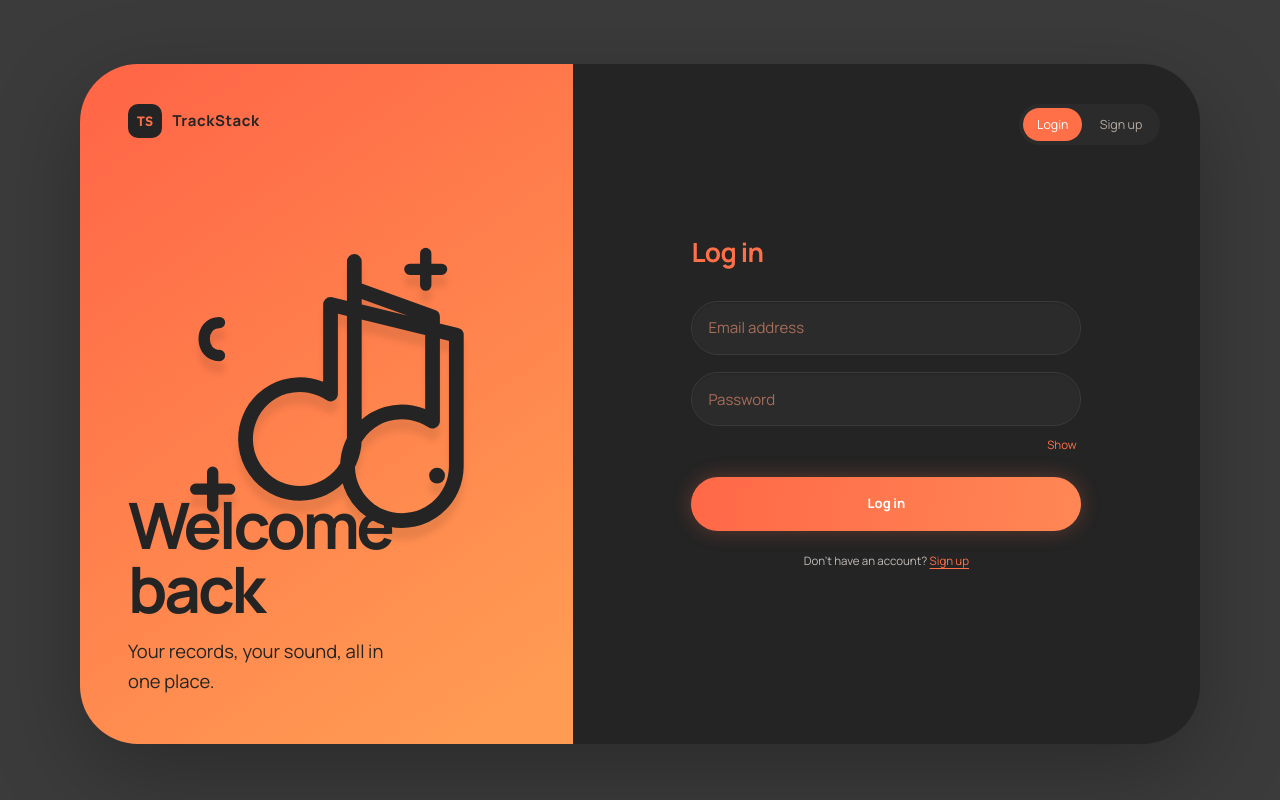
Test: requires a login for the public catalogue and returns to the requested page afterward
Expected: the heading "Log in" is shown, [691,234,763,270]
Type "listener@example.com" into the field labelled "Email" at (886, 328), box [691,301,1081,355]
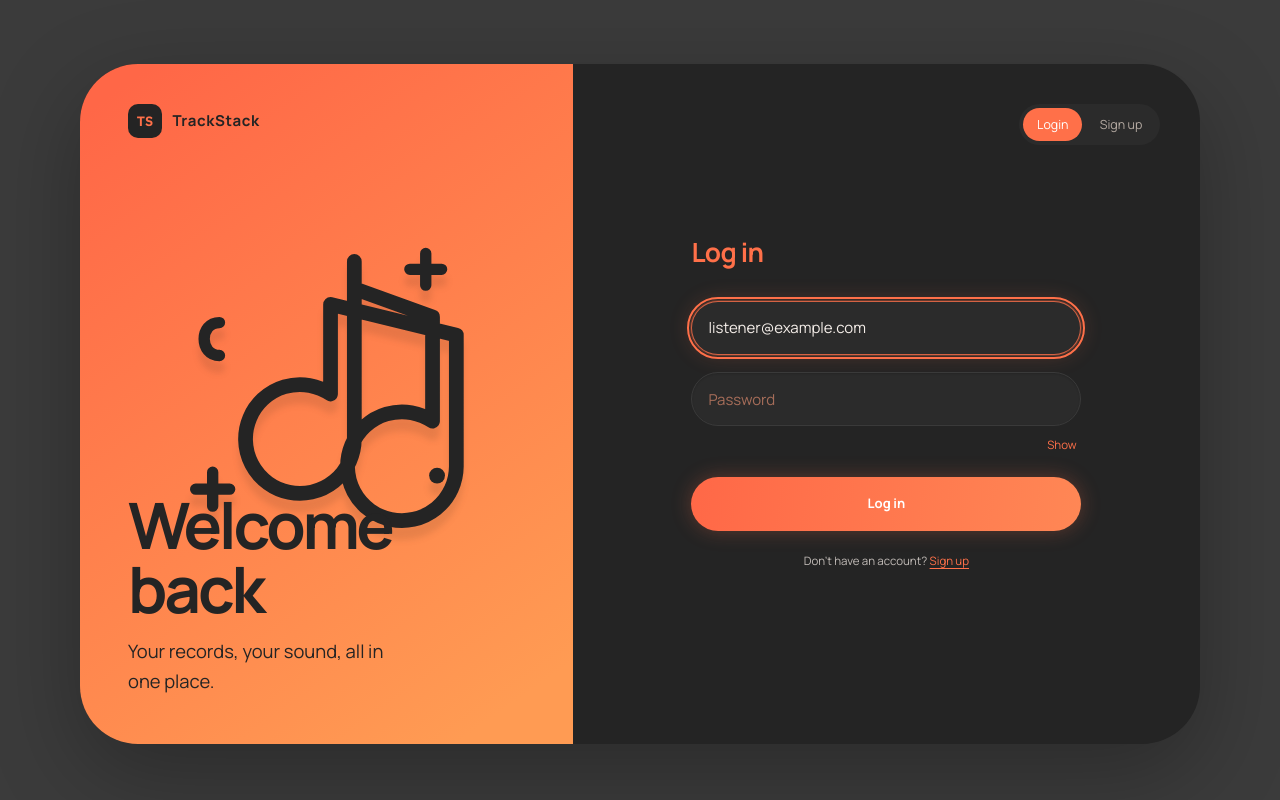
Type "secure-password" into the password field labelled "Password" at (886, 399), box [691,372,1081,426]
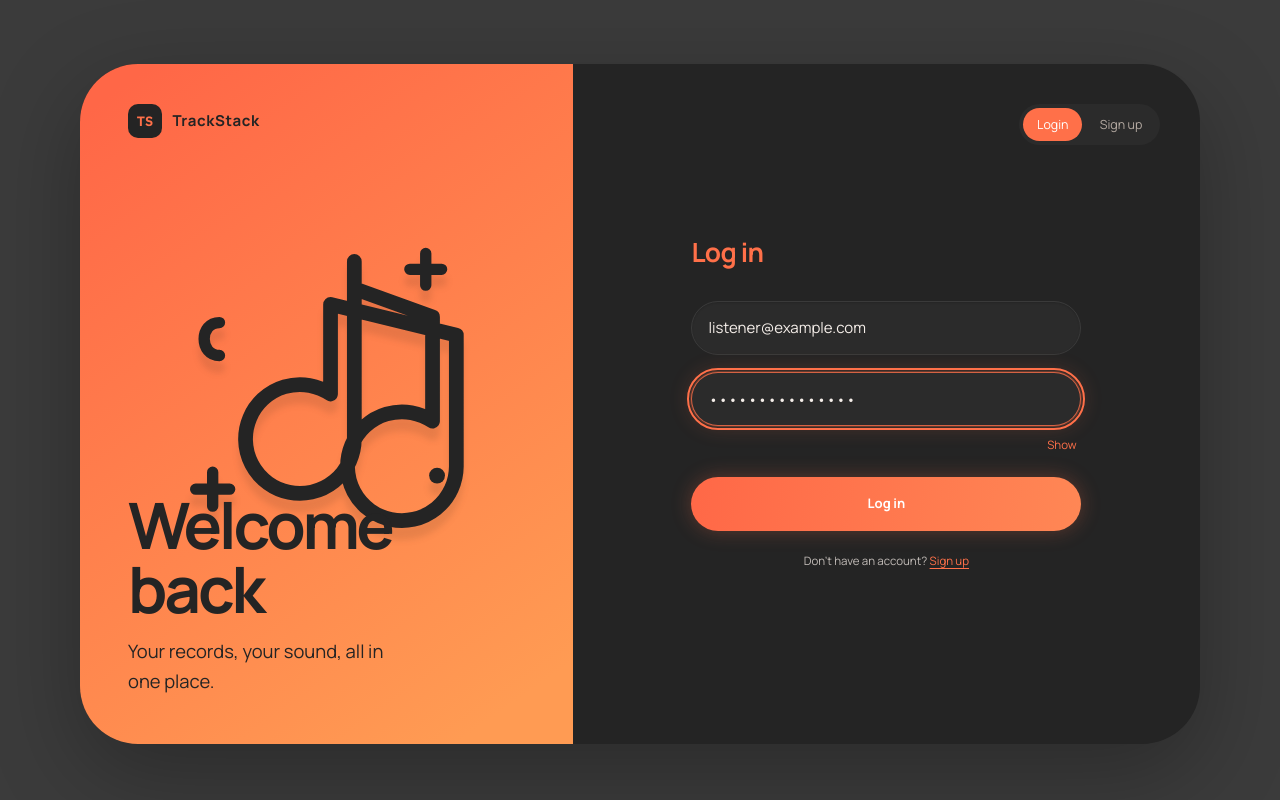
Click the button "Log in" at (886, 504), box [691,477,1081,531]
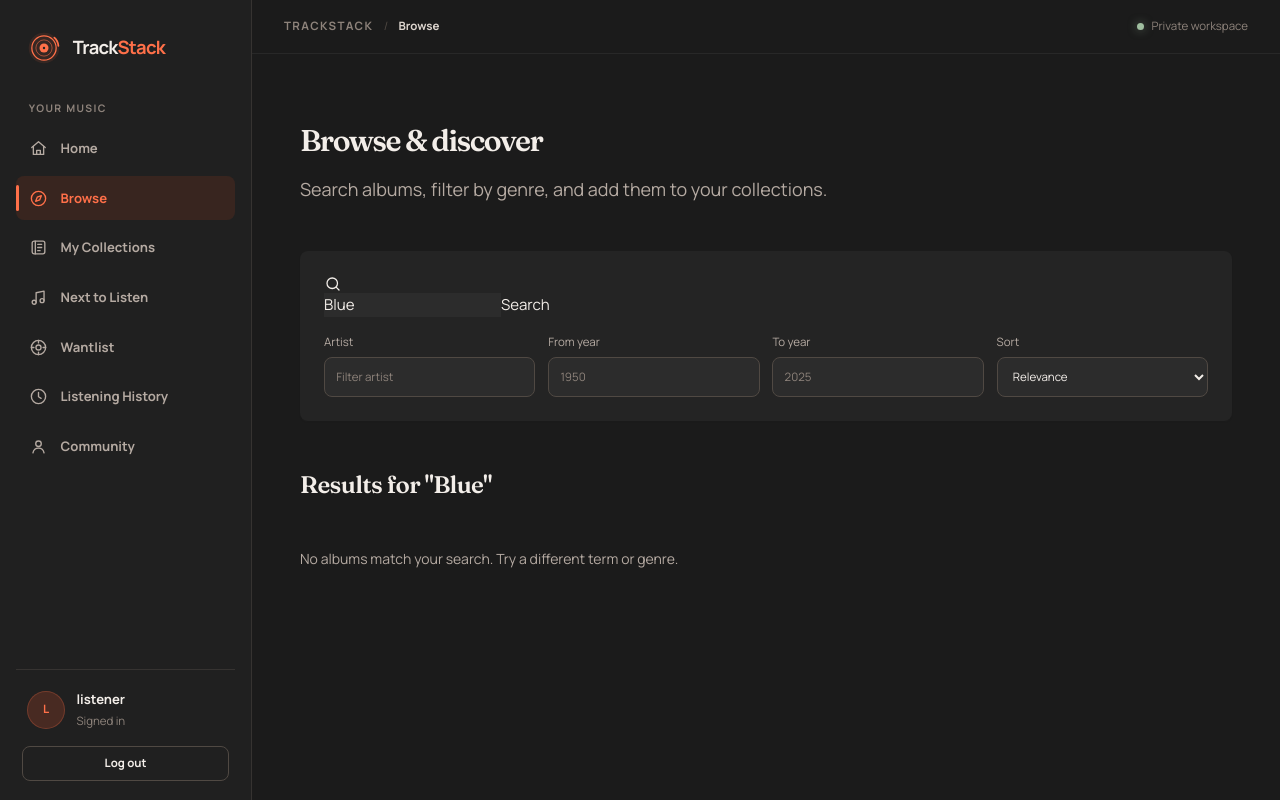
Expected: the heading "Browse & discover" is shown, [300,122,542,159]
